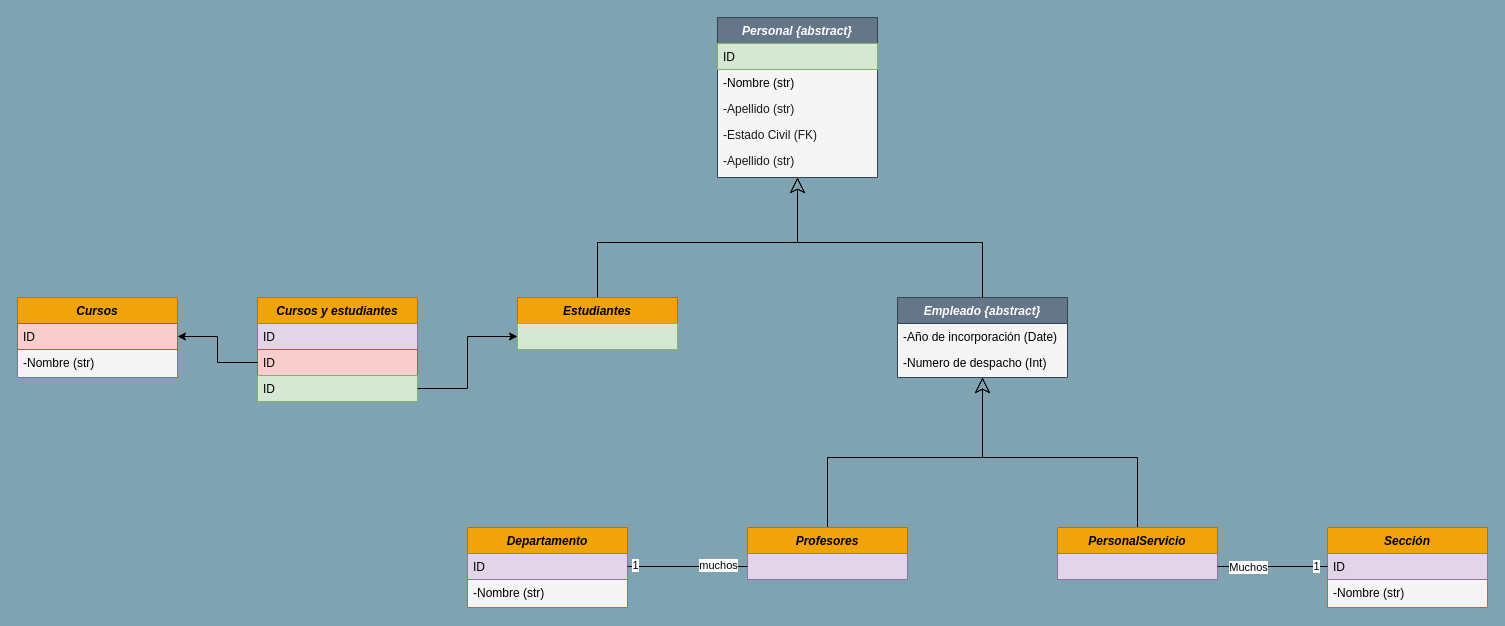
This 1505x626 diagram has some shape labels left out. The centre of each missing label's shape, as x and y in pixels:
"-Departamento (FK)" belongs at point (827, 566).
"-Sección (FK)" belongs at point (1137, 566).
"ID (heredada de persona)" belongs at point (597, 336).
